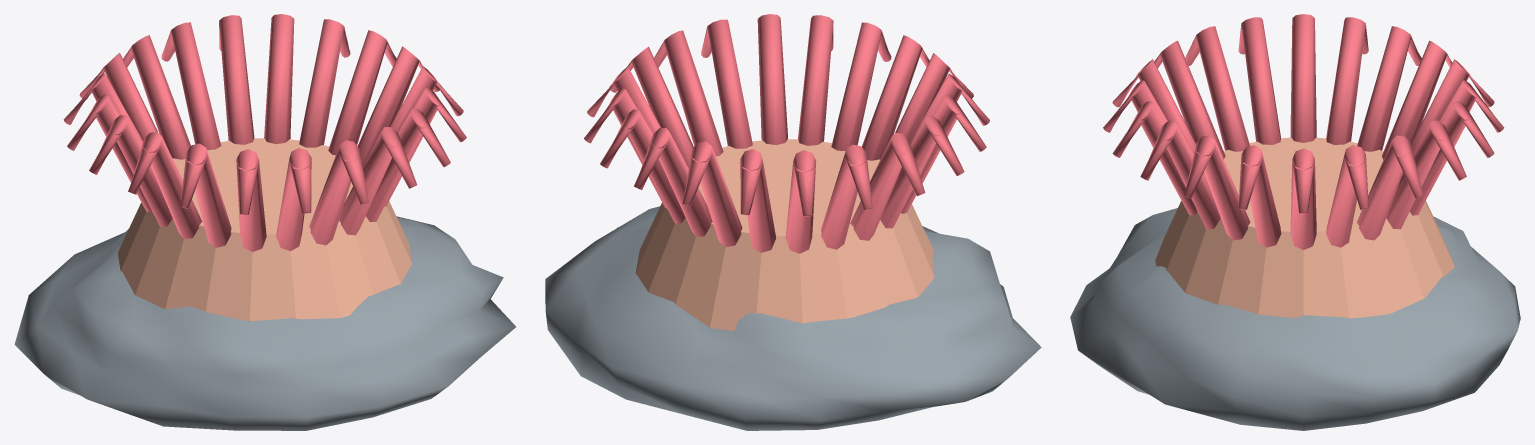
The model's file is anemone.glb.
3 views of the same model, side by side, from view 1: azimuth 30°, elevation 25°; view 2: azimuth 150°, elevation 25°; view 3: azimuth 270°, elevation 25° (orthographic).
Visible parts, largest first — view 1: rockpool-anemone; view 2: rockpool-anemone; view 3: rockpool-anemone.
Boxes of the visible parts, box(x1,y1,x2,y2) form: rockpool-anemone: box(14, 14, 515, 430); rockpool-anemone: box(545, 14, 1041, 430); rockpool-anemone: box(1070, 14, 1520, 430).
Bounding box in the file's own units: 0.6424 × 0.371 × 0.5948.
